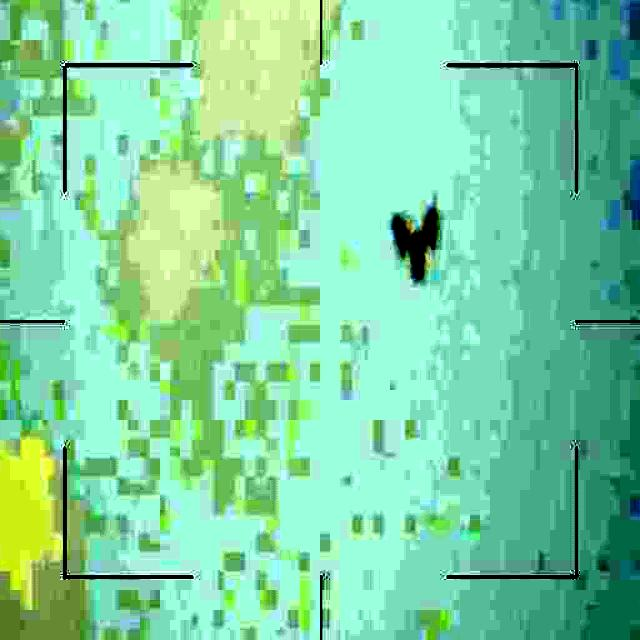bird: (392, 201, 445, 280)
